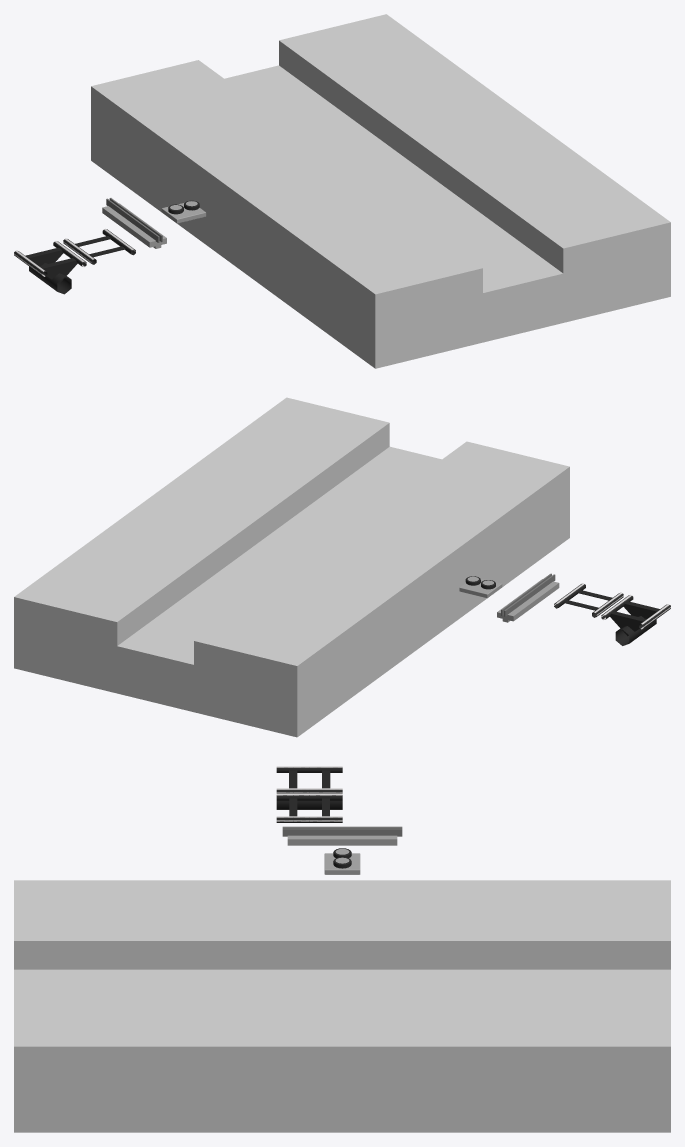
The model's file is simple_tracks.fbx.
3 renders of one model, top to bottom at view 1: azimuth 30°, elevation 25°; view 2: azimuth 150°, elevation 25°; view 3: azimuth 270°, elevation 25°, orthographic. The views are drawn at different scales.
Visible parts, largest first — view 1: station_platform, main_track, brake_fins, station_track, wheels; view 2: station_platform, main_track, brake_fins, station_track, wheels; view 3: station_platform, brake_fins, main_track, station_track, wheels.
Boxes of the visible parts, <box> form: station_platform: <box>91,14,670,368</box>; main_track: <box>14,241,86,294</box>; brake_fins: <box>102,198,166,248</box>; station_track: <box>63,228,135,264</box>; wheels: <box>161,200,206,223</box>; station_platform: <box>14,397,569,737</box>; main_track: <box>601,594,670,645</box>; brake_fins: <box>497,573,559,622</box>; station_track: <box>554,583,623,617</box>; wheels: <box>459,576,502,598</box>; station_platform: <box>14,880,670,1132</box>; brake_fins: <box>282,826,402,845</box>; main_track: <box>276,766,342,809</box>; station_track: <box>276,794,342,822</box>; wheels: <box>324,848,360,874</box>.
Bounding box in the file's own units: 10.45 × 1.44 × 10.
5 materials, 1 textured.
